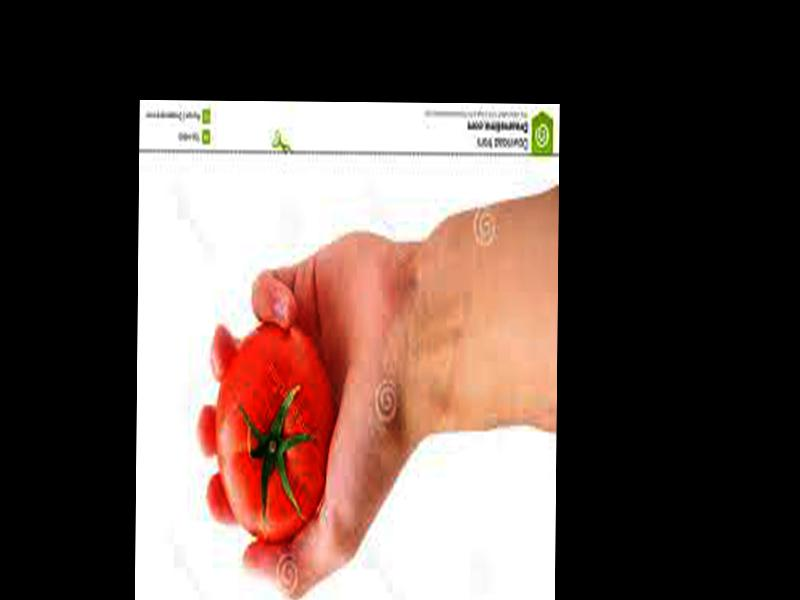Tomato: (214, 320, 332, 539)
